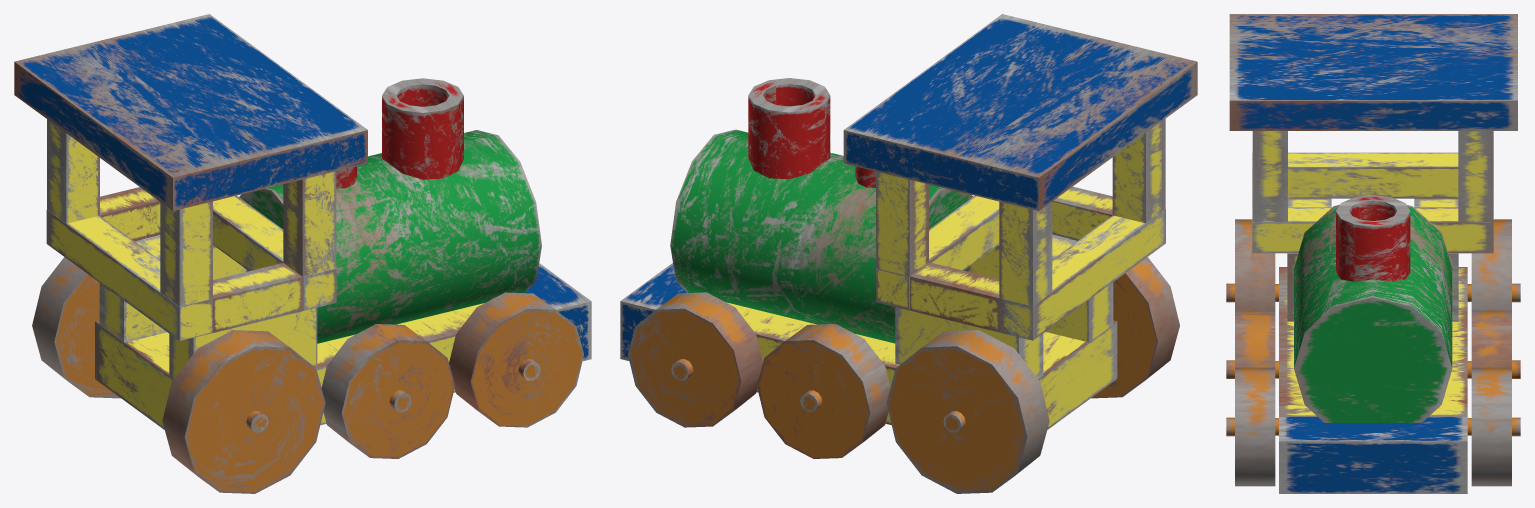
Rendered from train.fbx.
3 renders of one model, left to right at view 1: azimuth 30°, elevation 25°; view 2: azimuth 150°, elevation 25°; view 3: azimuth 270°, elevation 25°, orthographic. The views are drawn at different scales.
Visible parts, largest first — view 1: old_train; view 2: old_train; view 3: old_train.
Part boxes in pixels (x1,y1,x2,y2): old_train: (14, 14, 591, 493); old_train: (620, 14, 1197, 493); old_train: (1226, 14, 1520, 493).
Bounding box in the file's own units: 0.2474 × 0.1797 × 0.1555.
